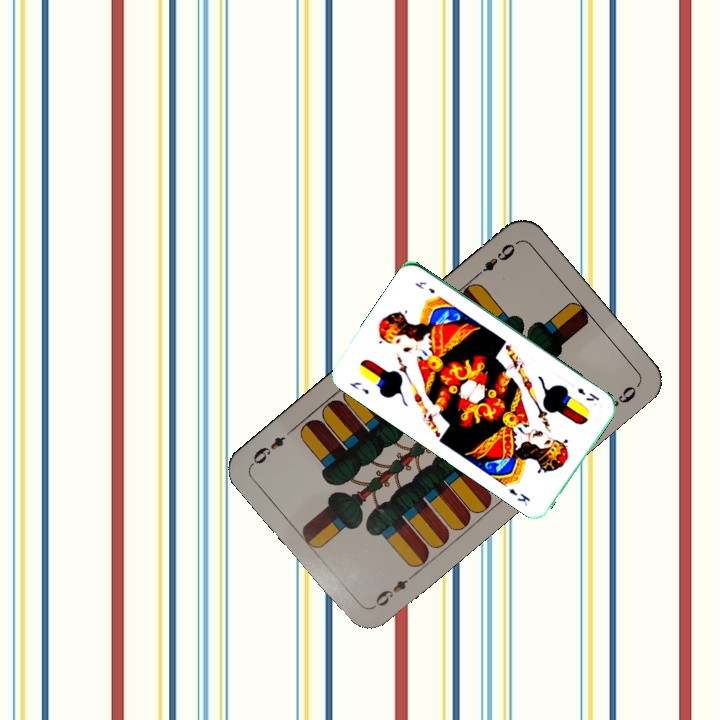E9: (470, 239, 518, 281), (369, 569, 418, 610)
EK: (573, 384, 601, 404), (346, 378, 372, 397)
